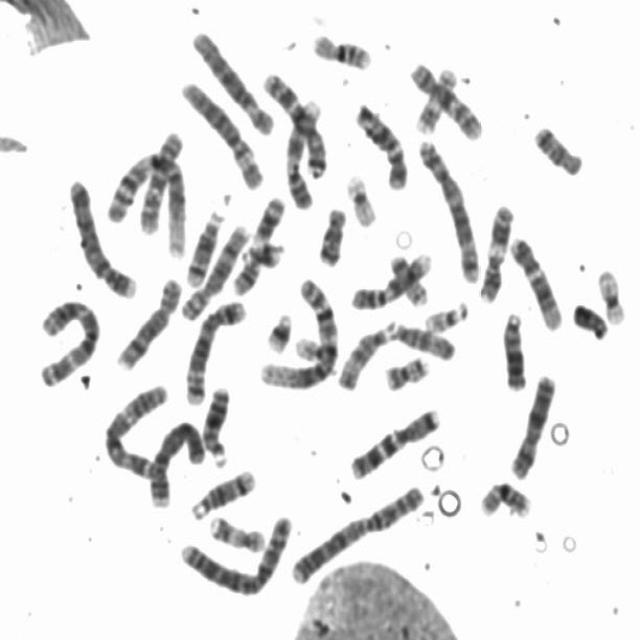A1: (256, 273, 340, 392), (102, 145, 188, 261)
A2: (286, 480, 426, 587), (174, 510, 294, 598)
A3: (100, 378, 172, 506), (34, 294, 100, 389)
B4: (66, 175, 136, 300), (144, 415, 206, 510)
B5: (415, 134, 481, 284), (181, 296, 249, 406)
C10: (407, 58, 484, 142), (135, 126, 184, 237)
C11: (230, 195, 289, 299), (475, 200, 514, 302)
C12: (507, 233, 564, 331), (351, 99, 409, 194)
C6: (176, 77, 264, 191), (189, 26, 275, 138)
C7: (260, 70, 328, 178), (345, 406, 442, 480)
C8: (177, 220, 250, 324), (113, 274, 183, 372)
C9: (347, 248, 433, 313), (282, 98, 326, 212)
D13: (199, 383, 231, 468), (500, 309, 527, 392)
D14: (187, 467, 257, 522), (183, 207, 225, 288)
D15: (334, 315, 396, 392), (388, 317, 456, 361)
E16: (310, 30, 372, 72), (476, 476, 531, 520)
E17: (412, 66, 459, 136), (205, 512, 267, 554)
E18: (530, 120, 584, 179), (314, 205, 348, 268)
F19: (343, 171, 380, 230), (593, 266, 626, 326)
F20: (386, 253, 429, 308), (382, 353, 431, 392)
G21: (262, 308, 294, 354), (240, 239, 286, 268)
G22: (422, 298, 469, 335), (292, 334, 336, 362)
X: (507, 371, 558, 481)
Y: (570, 300, 610, 341)
